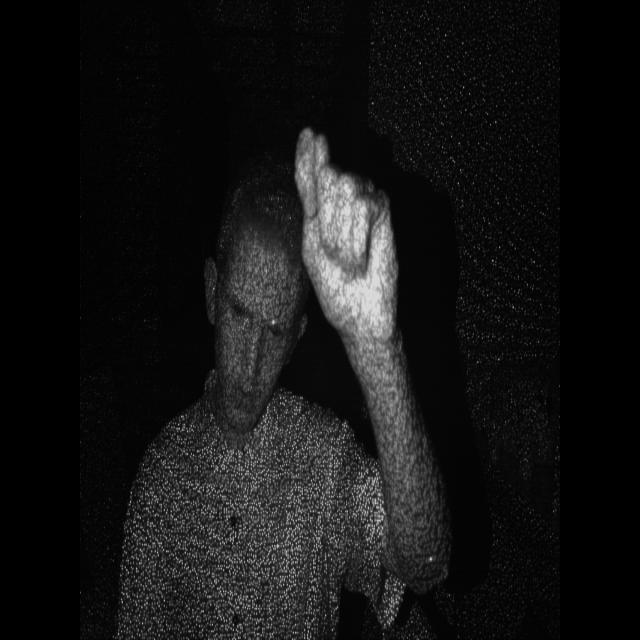T: (285, 112, 408, 355)
